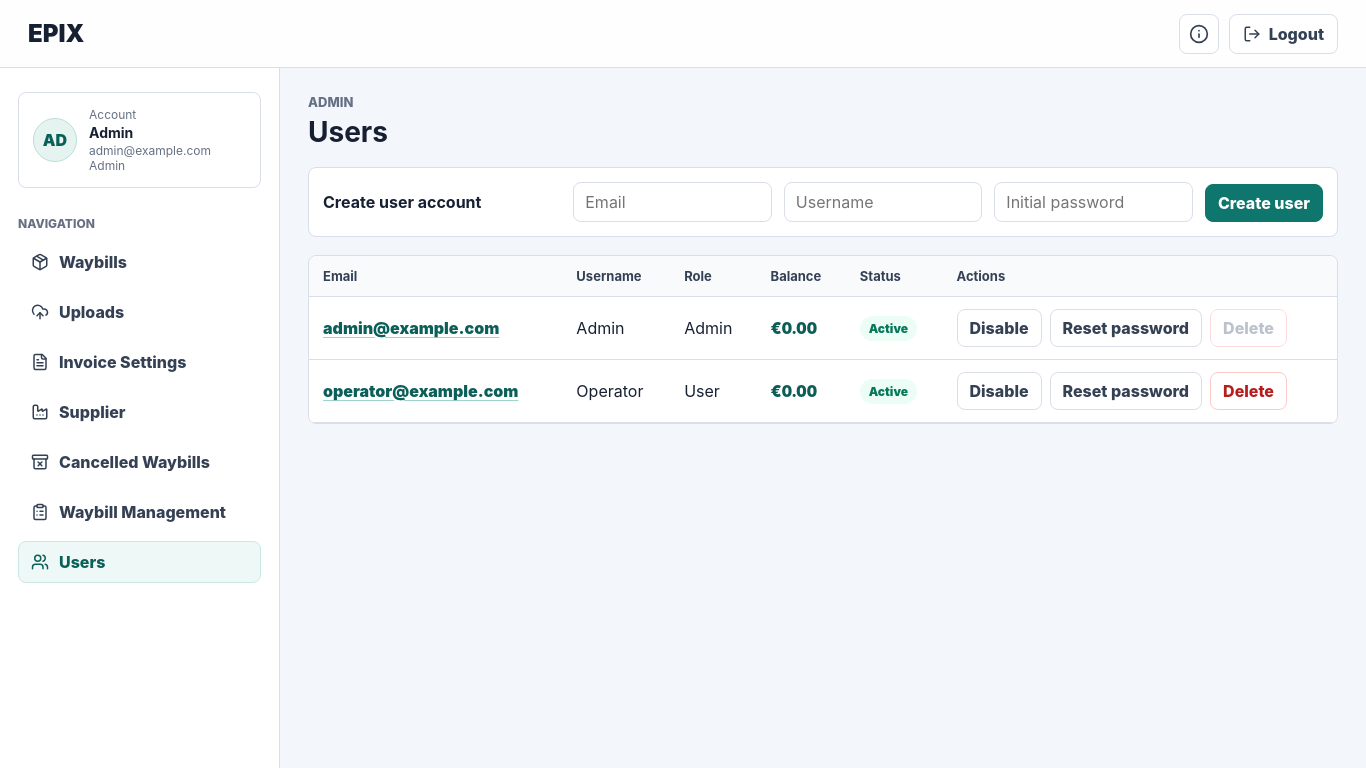
UsersPage › opens customer details and adds a recharge
The image size is (1366, 768).
Click the button "operator@example.com". click: (421, 391)
box: [323,381,518,401]
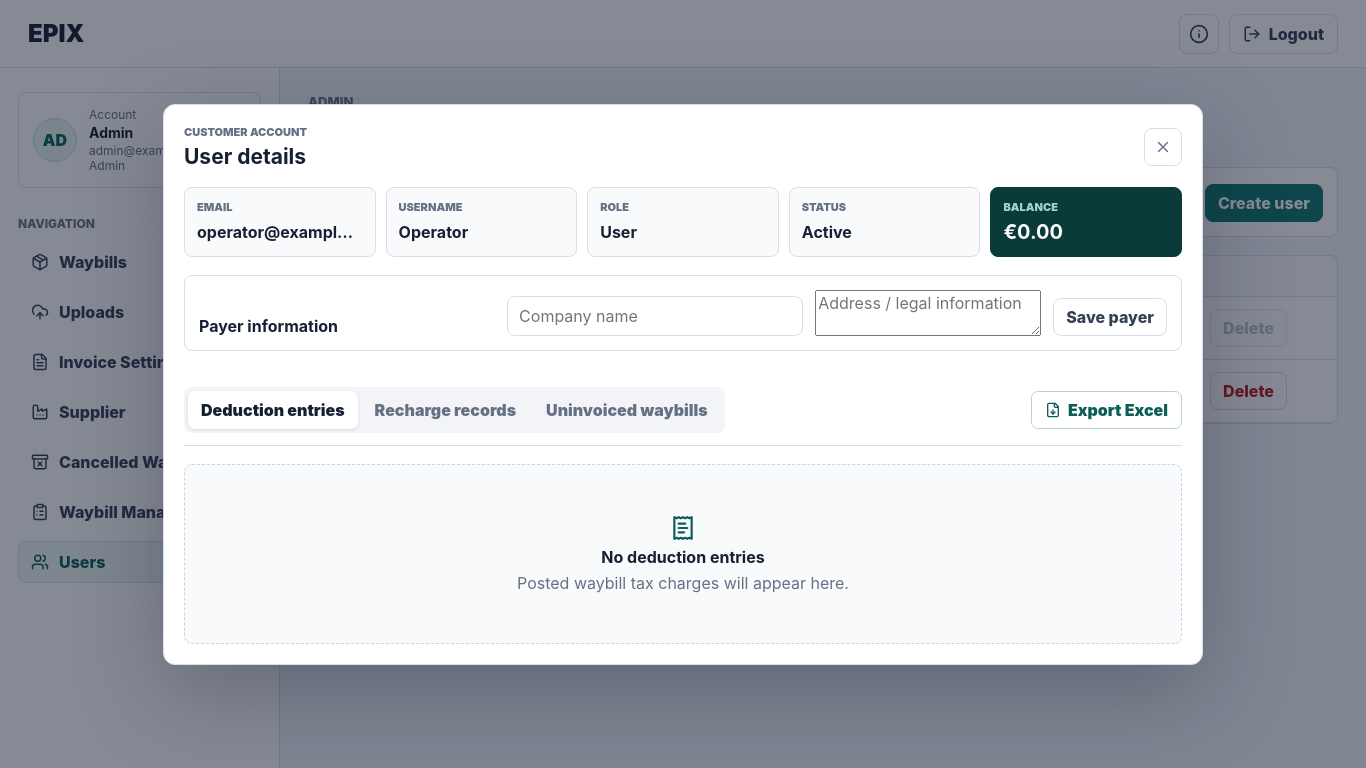
Now the dialog "User details" is shown, box [163,104,1203,664]
Click the tab "Recharge records". click: (445, 410)
box: [362,390,529,428]
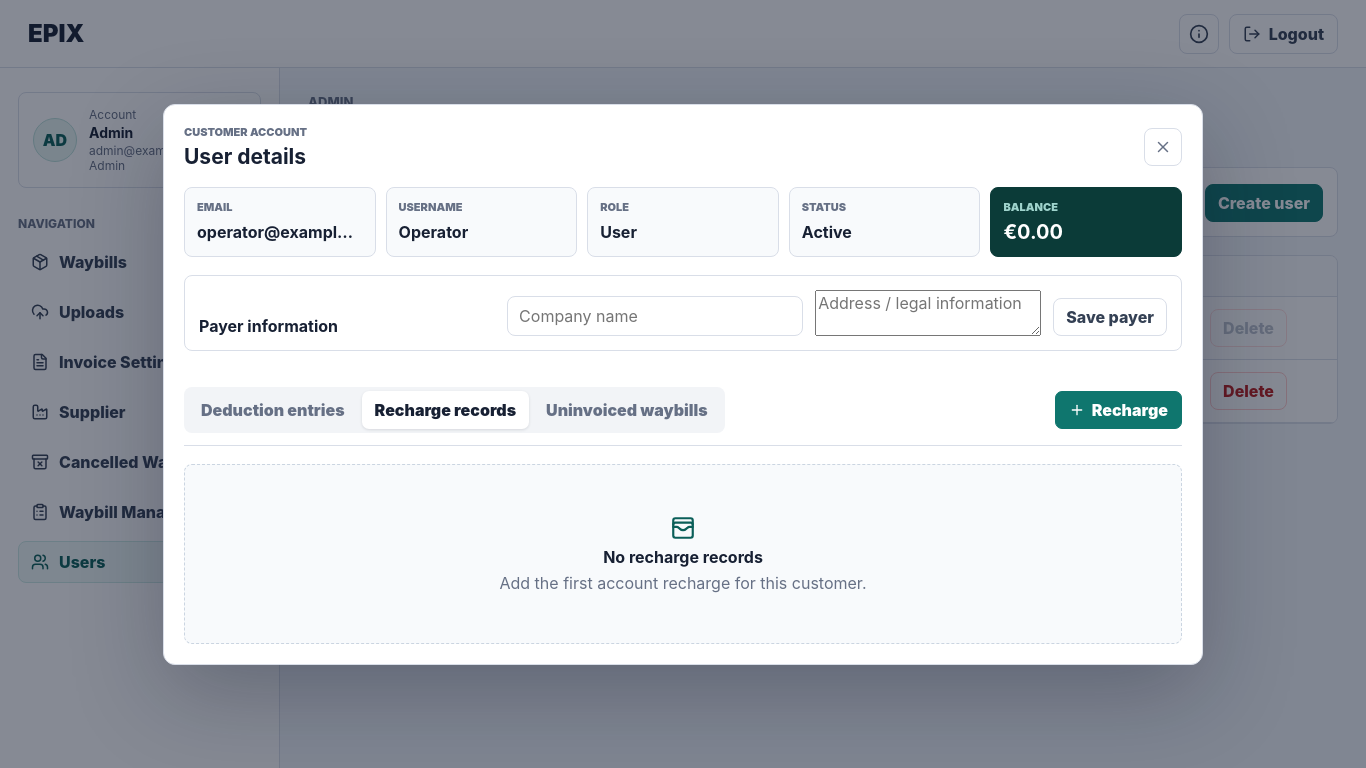
Click the button "Recharge". click: (1118, 410)
box: [1055,390,1182,428]
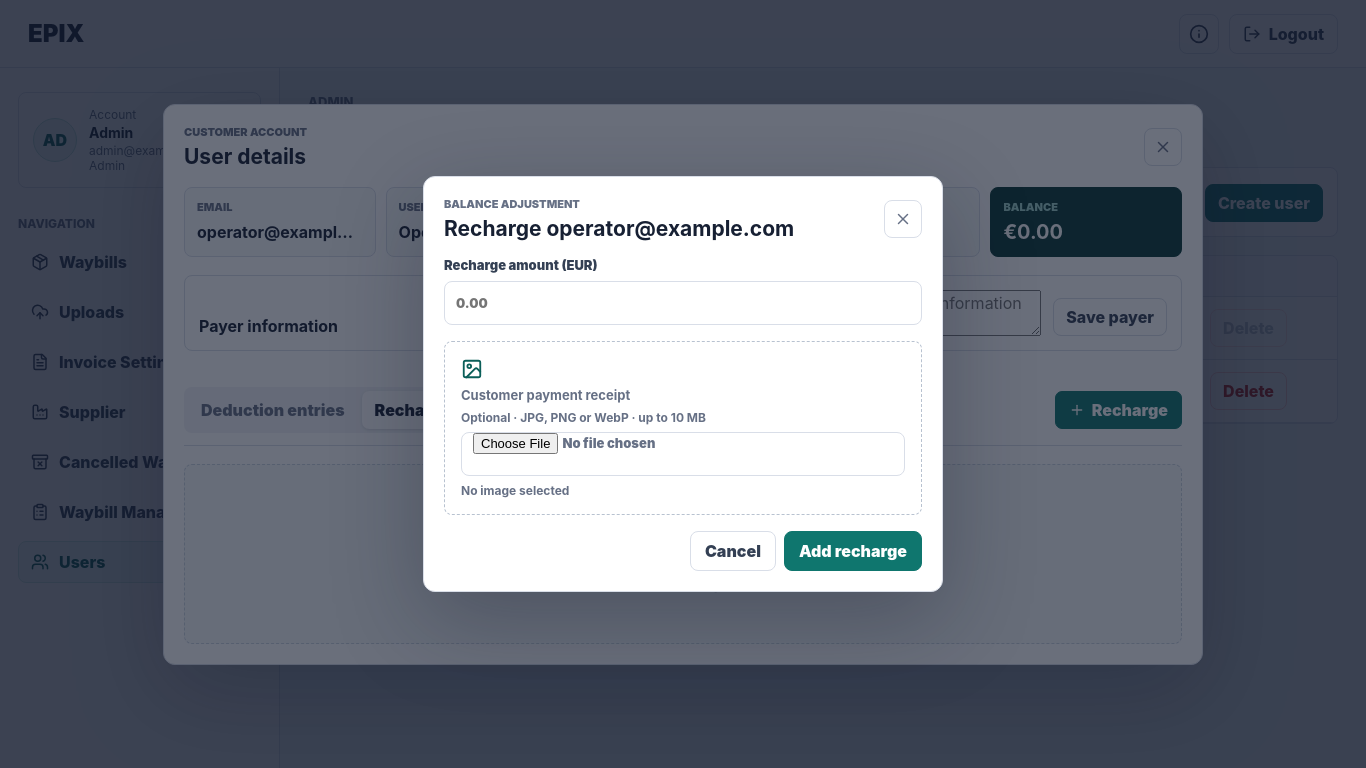
Type "25.00" into the number field labelled "Recharge amount (EUR)". click: (683, 303)
box: [444,281,922,325]
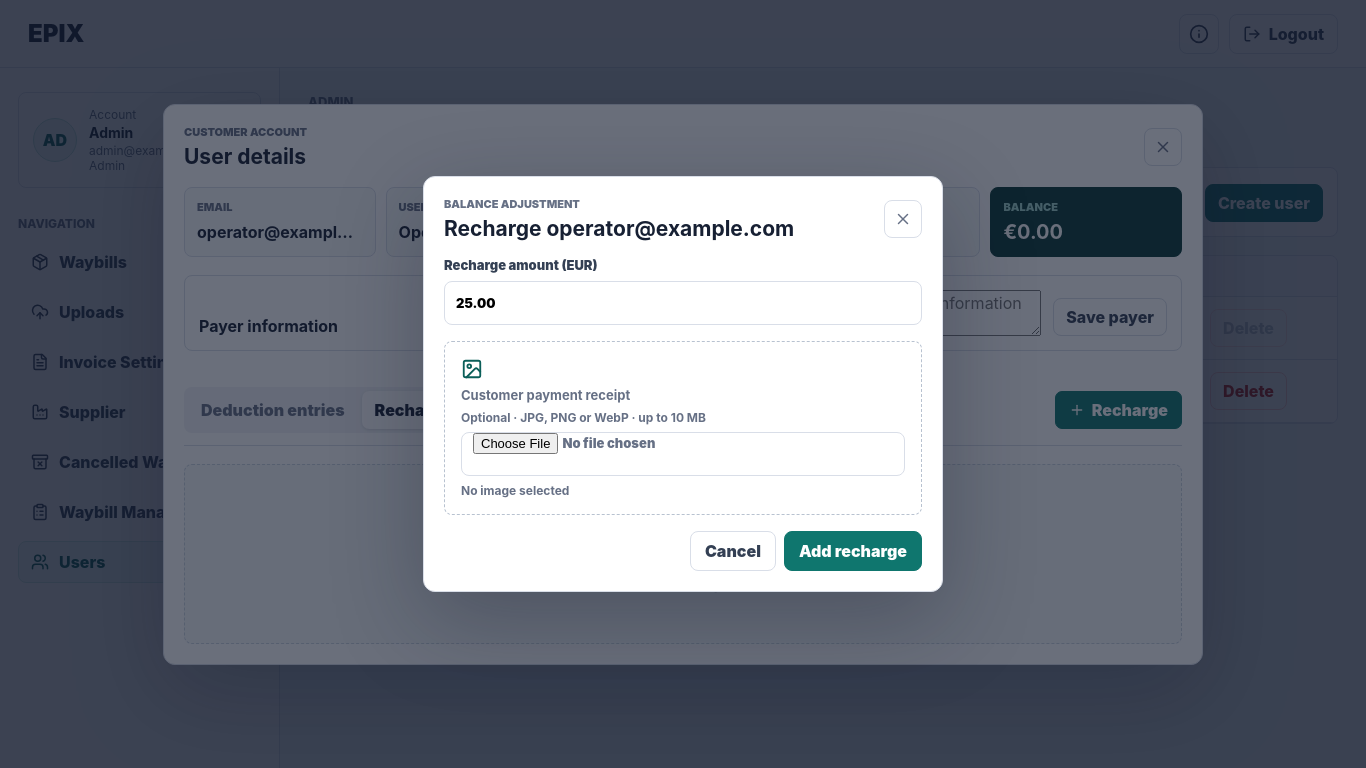
Click the button "Add recharge". click: (853, 551)
box: [784,531,922,571]
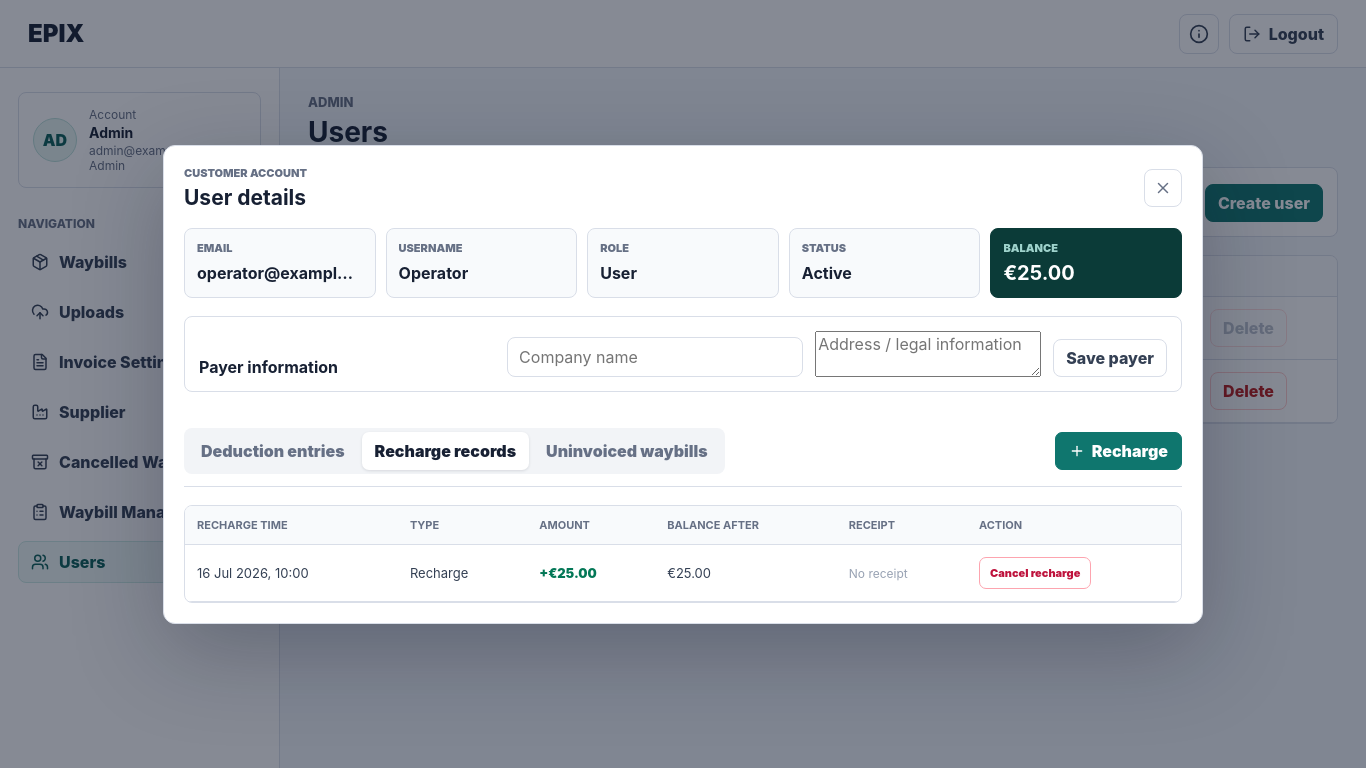
Now the text "+€25.00" is shown, box [539,564,597,580]
